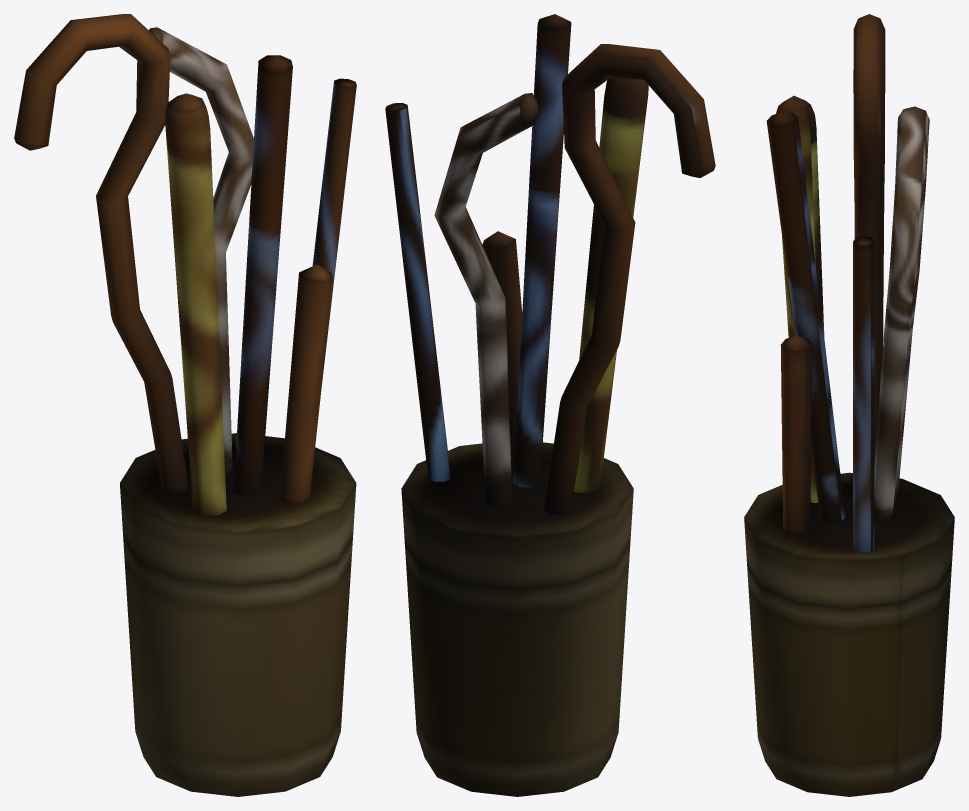
Rendered from Staves Bowl.fbx.
3 views of the same model, side by side, from view 1: azimuth 30°, elevation 25°; view 2: azimuth 150°, elevation 25°; view 3: azimuth 270°, elevation 25° (orthographic). The views are drawn at different scales.
Visible parts, largest first — view 1: Mage_stave_bowl; view 2: Mage_stave_bowl; view 3: Mage_stave_bowl.
Boxes of the visible parts, <box> form: Mage_stave_bowl: <box>14,14,356,796</box>; Mage_stave_bowl: <box>385,14,715,796</box>; Mage_stave_bowl: <box>744,14,954,796</box>.
Bounding box in the file's own units: 0.8253 × 1.8 × 0.5026.
